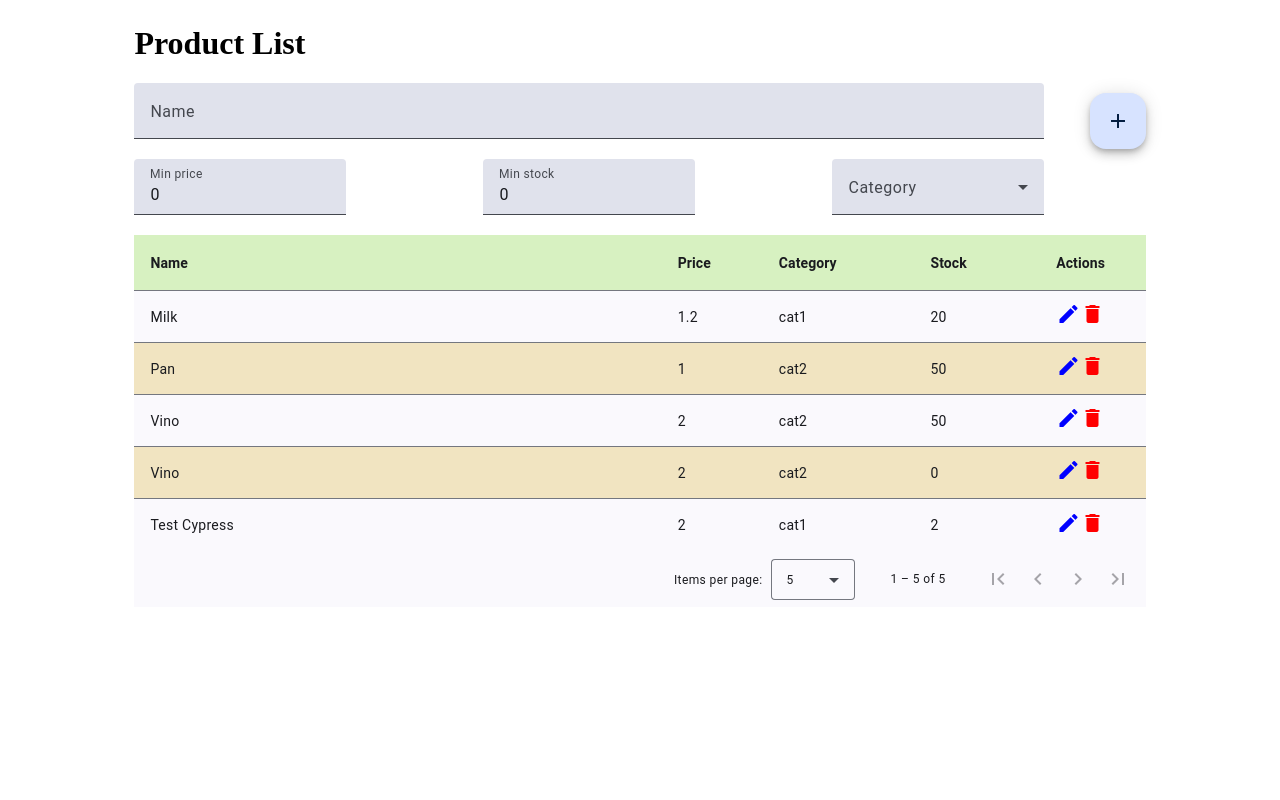
template spec › Edit product
Type "Test Cypress" into the search field with id "filter_name".
click(589, 119); type("Test Cypress")  # box x1=150 y1=107 x2=1028 y2=131
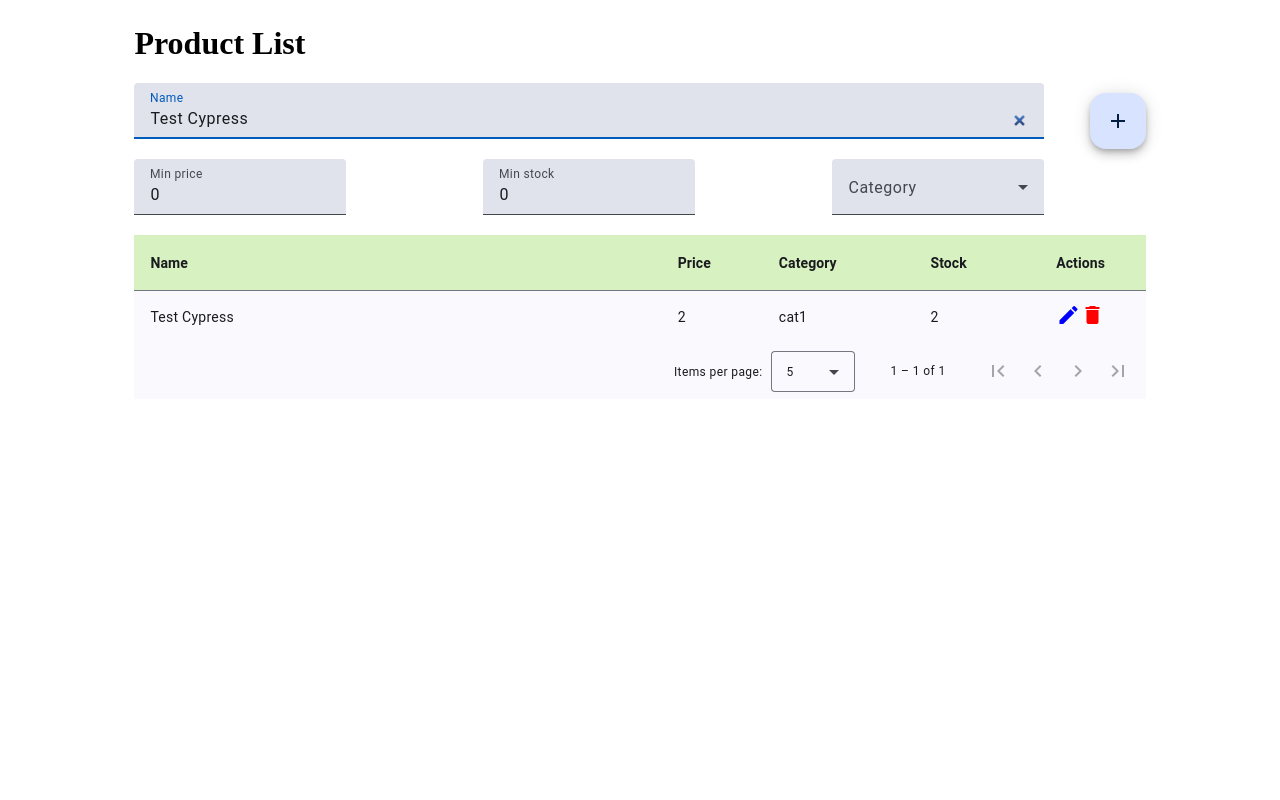
Click the 1st picture with class "icon-pointer".
click(1069, 315)  # box x1=1057 y1=303 x2=1081 y2=327
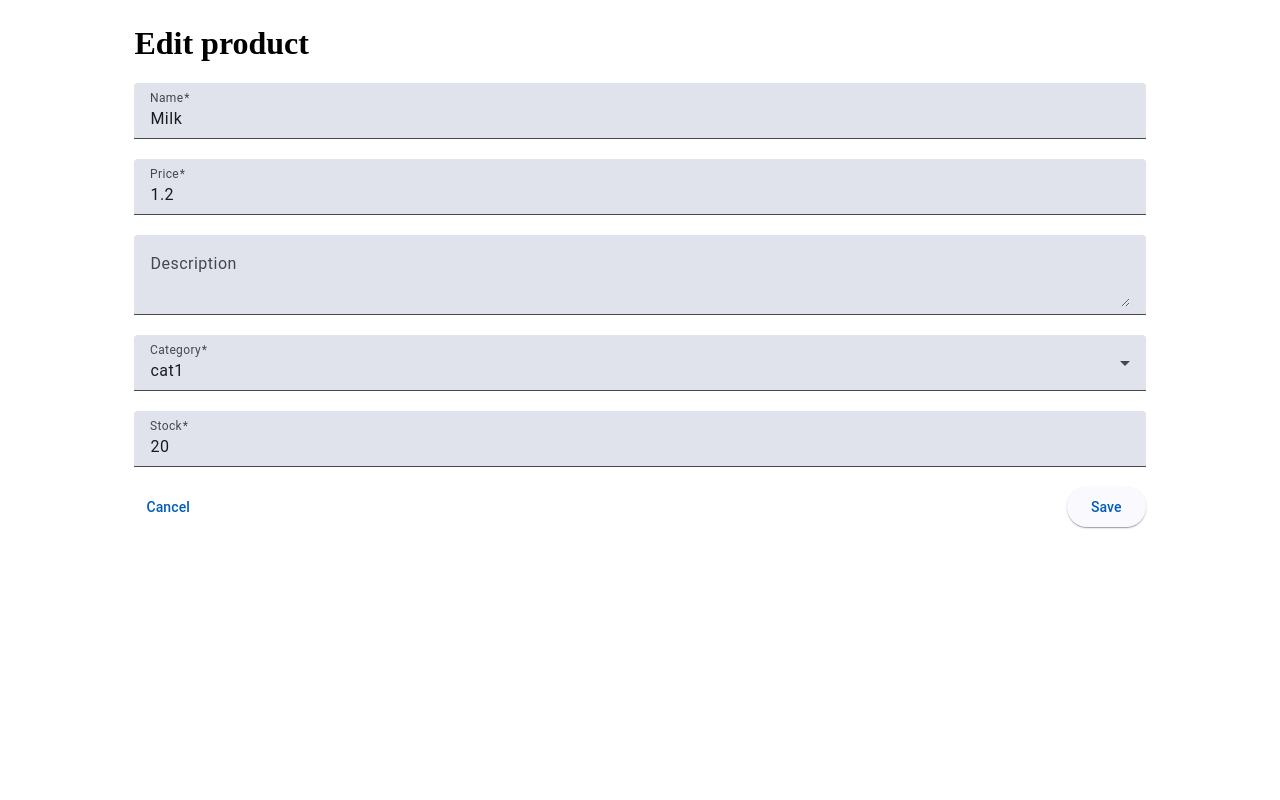
Type "5" into the number field with placeholder "Price".
click(640, 195); type("5")  # box x1=150 y1=183 x2=1129 y2=207
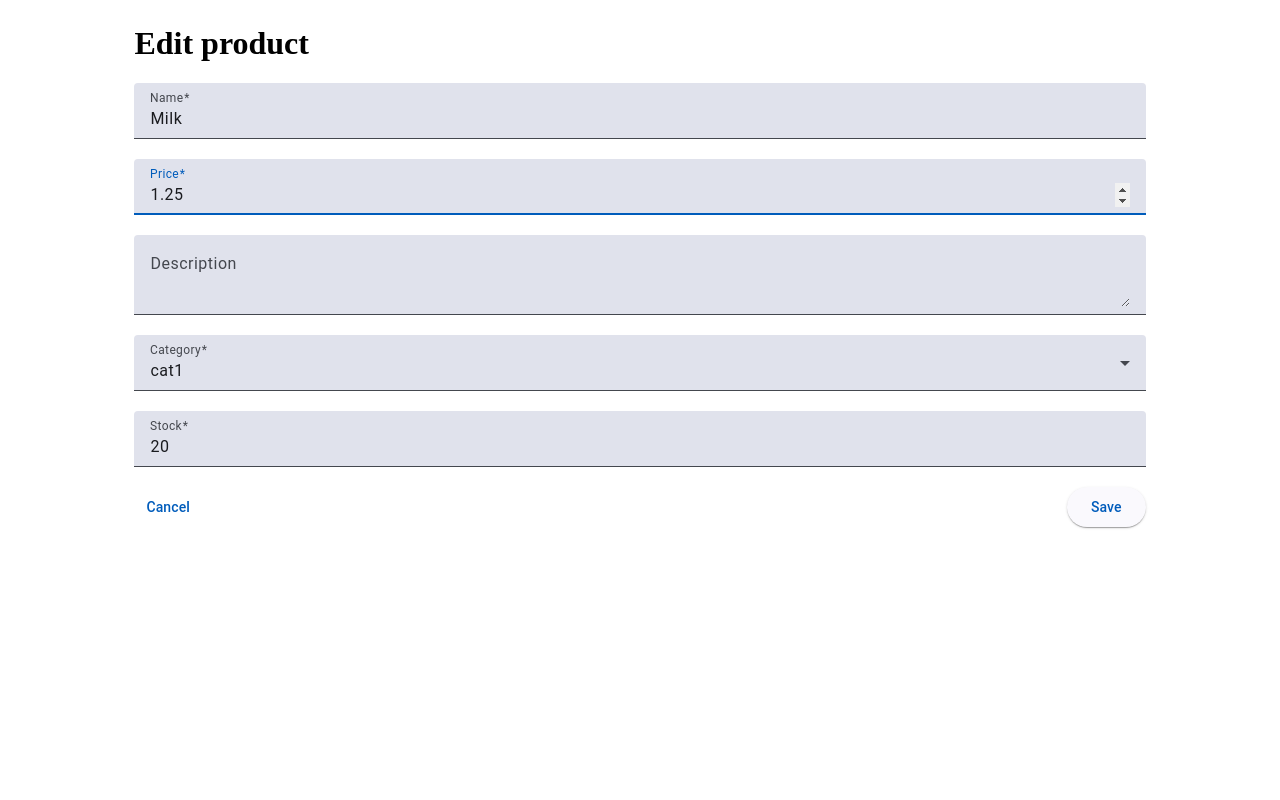
Type " edit" into the text box with placeholder "Description".
click(640, 283); type(" edit")  # box x1=150 y1=259 x2=1129 y2=307
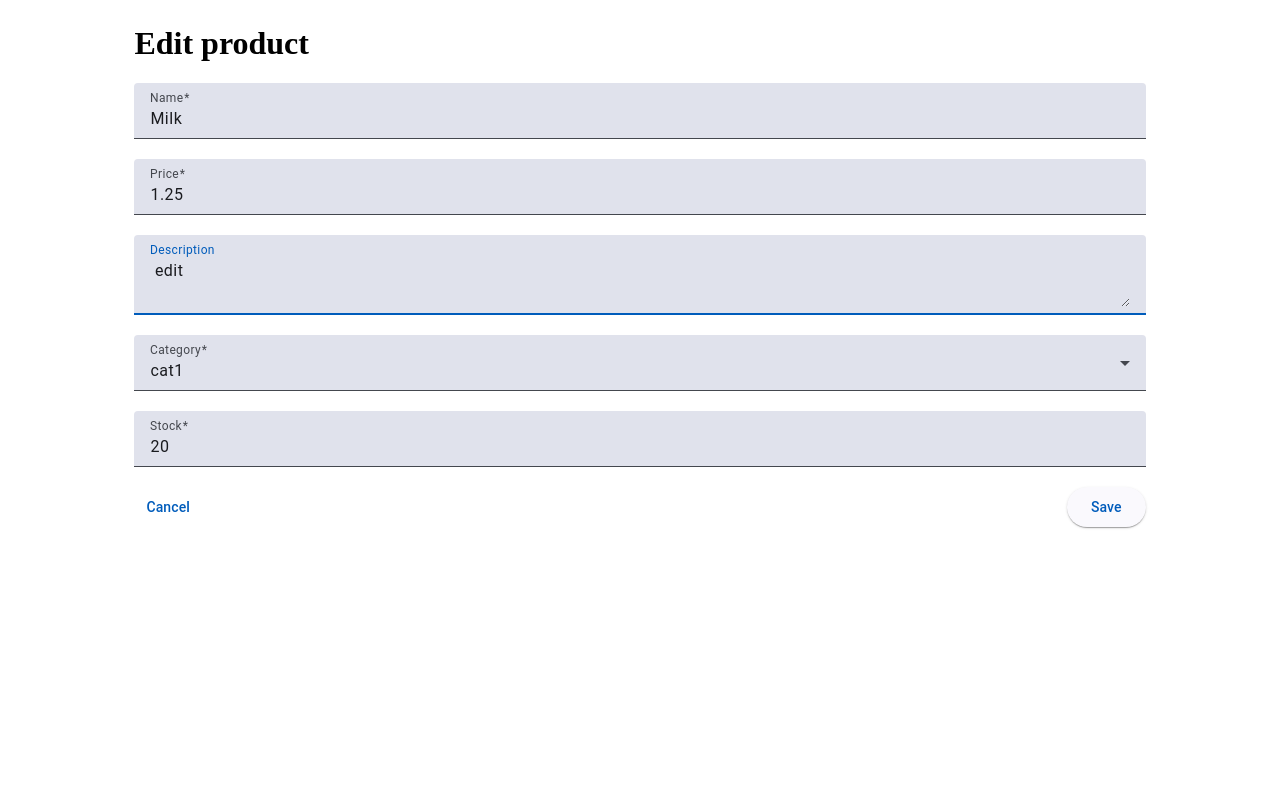
Click the button with class "button-save".
click(1107, 507)  # box x1=1067 y1=487 x2=1146 y2=527
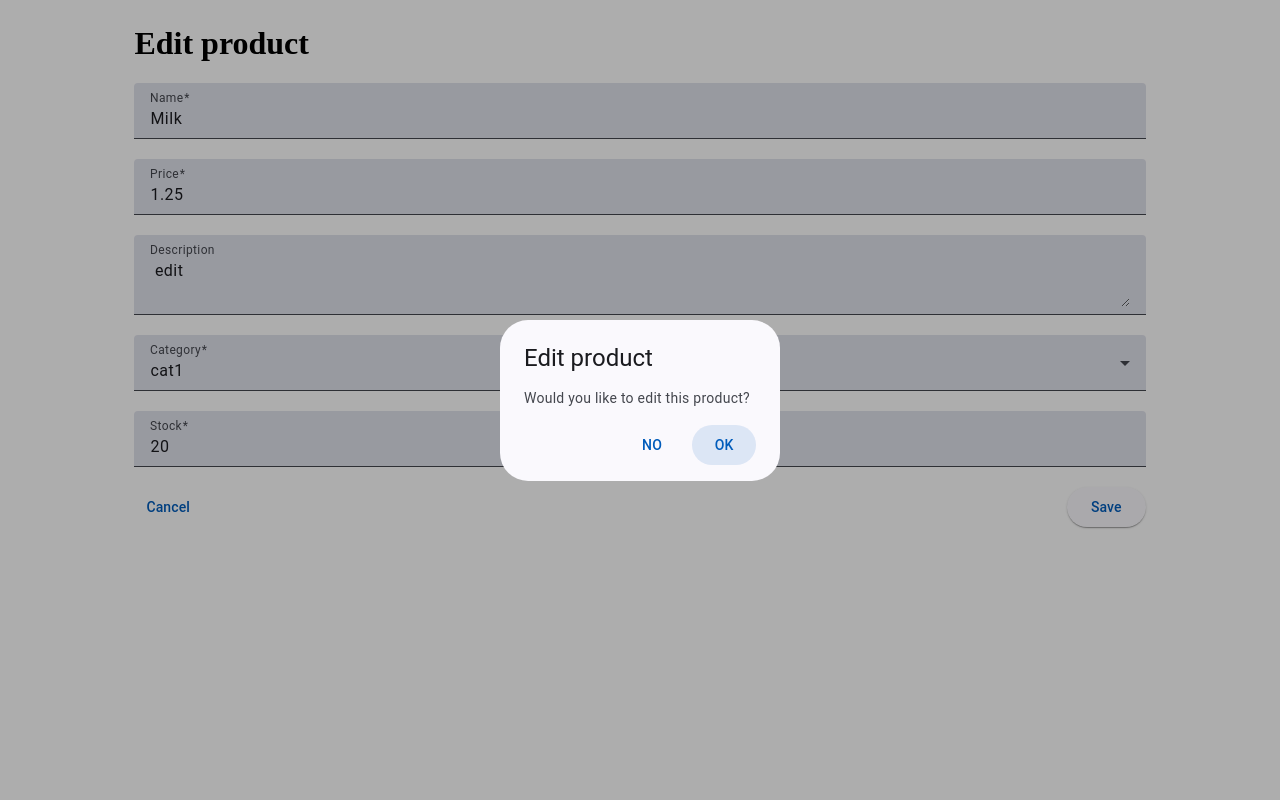
Now the text "Would you like to edit this product?" is shown, box x1=524 y1=390 x2=750 y2=406
Click the button "OK".
click(724, 445)  # box x1=692 y1=425 x2=756 y2=465
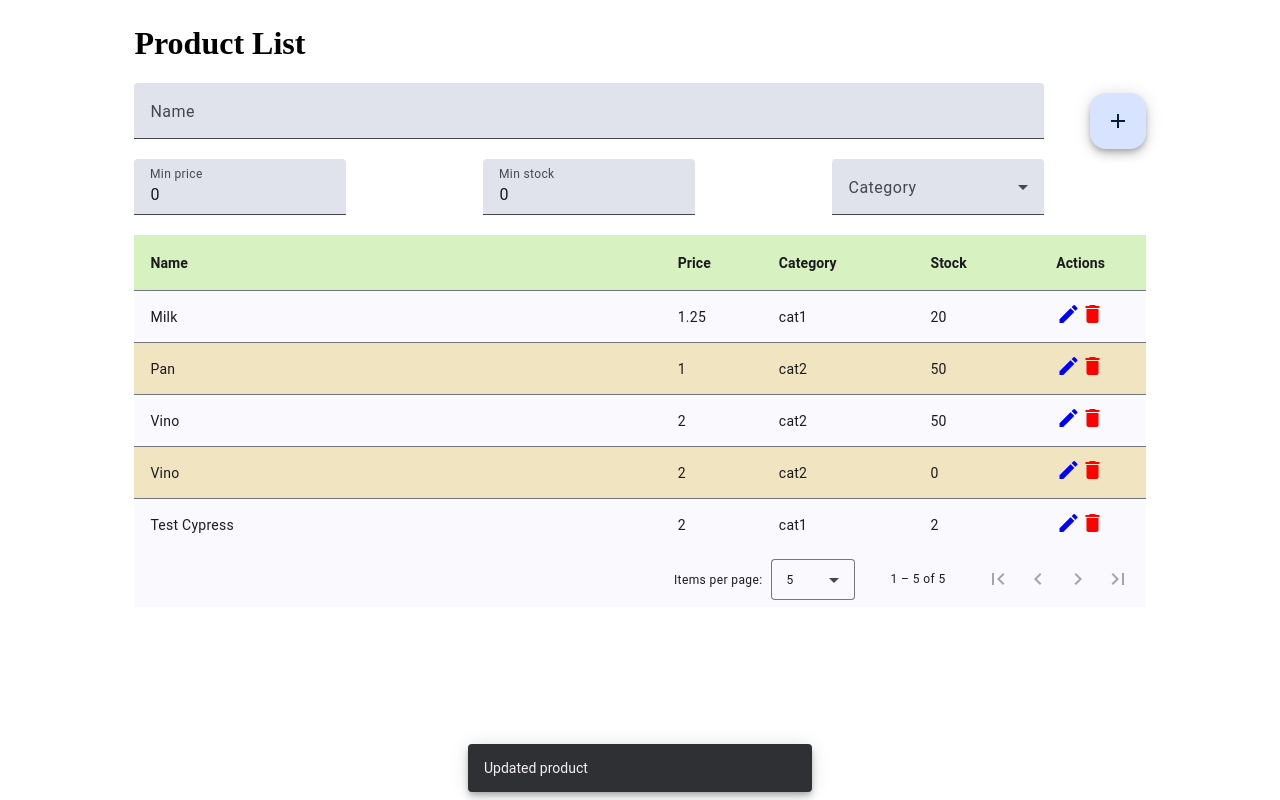
Now the text "Updated product" is shown, box x1=484 y1=760 x2=588 y2=776
Now the heading "Product List" is shown, box x1=134 y1=25 x2=305 y2=61
